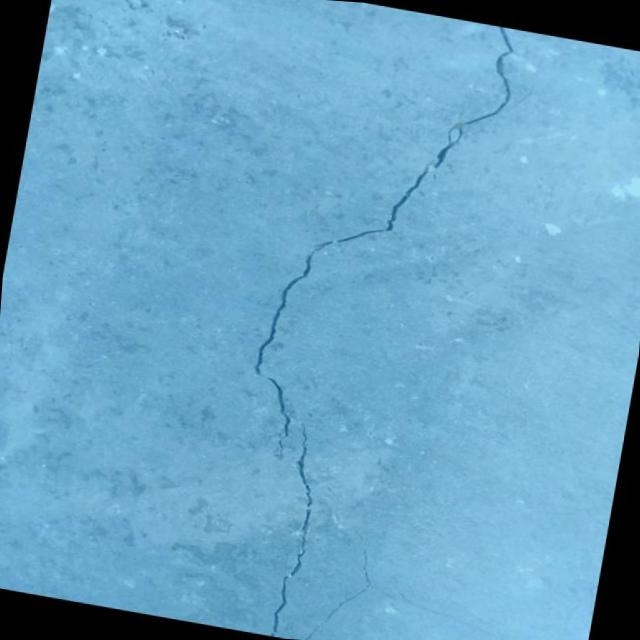crack: (237, 0, 544, 495), (262, 421, 328, 640), (302, 521, 380, 640)
